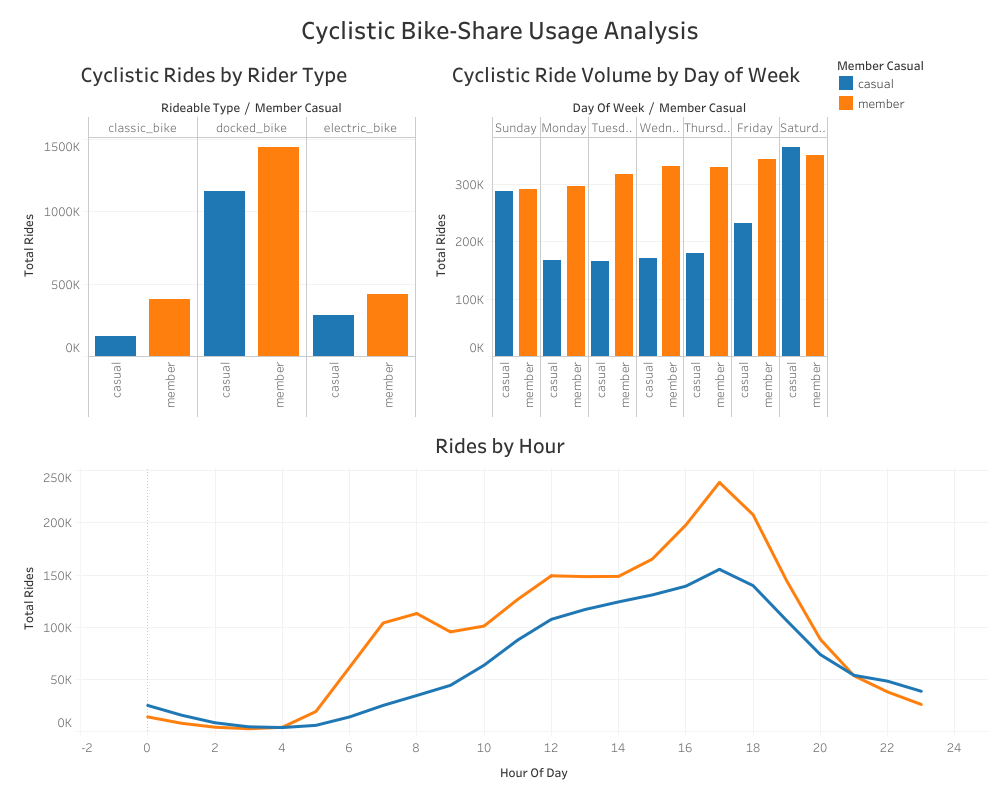

What the dashboard file says about the page in this screenshot:
{"tool":"tableau","page":{"name":"Dashboard 1","canvas":[1000,800],"ordinal":0},"visuals":[{"type":"title","box":[8,8,984,42]},{"type":"worksheet","title":"Cyclistic Rides by Rider Type","mark":"Bar","rows":["total_rides"],"cols":["rideable_type","member_casual"],"box":[8,50,412,371]},{"type":"worksheet","title":"Cyclistic Ride Volume by Day of Week","mark":"Automatic","rows":["total_rides"],"cols":["day_of_week","member_casual"],"box":[420,50,412,371]},{"type":"legend","title":"Cyclistic Rides by Rider Type","param":"[federated.140kbsz1w3gn3l1etfztr0qe188k].[none:member_casual:nk]","box":[832,50,160,67]},{"type":"worksheet","title":"Rides by Hour","mark":"Automatic","rows":["total_rides"],"cols":["hour_of_day"],"box":[8,421,984,371]}]}

Visuals, with their boxes in screenshot pixels (x1, y1, x2, y2), scaled from the page's 1000x800 canvas onto the 999x799 screenshot:
title: 8 8 991 50
"Cyclistic Rides by Rider Type" worksheet (Bar marks): 8 50 420 420
"Cyclistic Ride Volume by Day of Week" worksheet: 420 50 831 420
"Cyclistic Rides by Rider Type" legend: 831 50 991 117
"Rides by Hour" worksheet: 8 420 991 791
